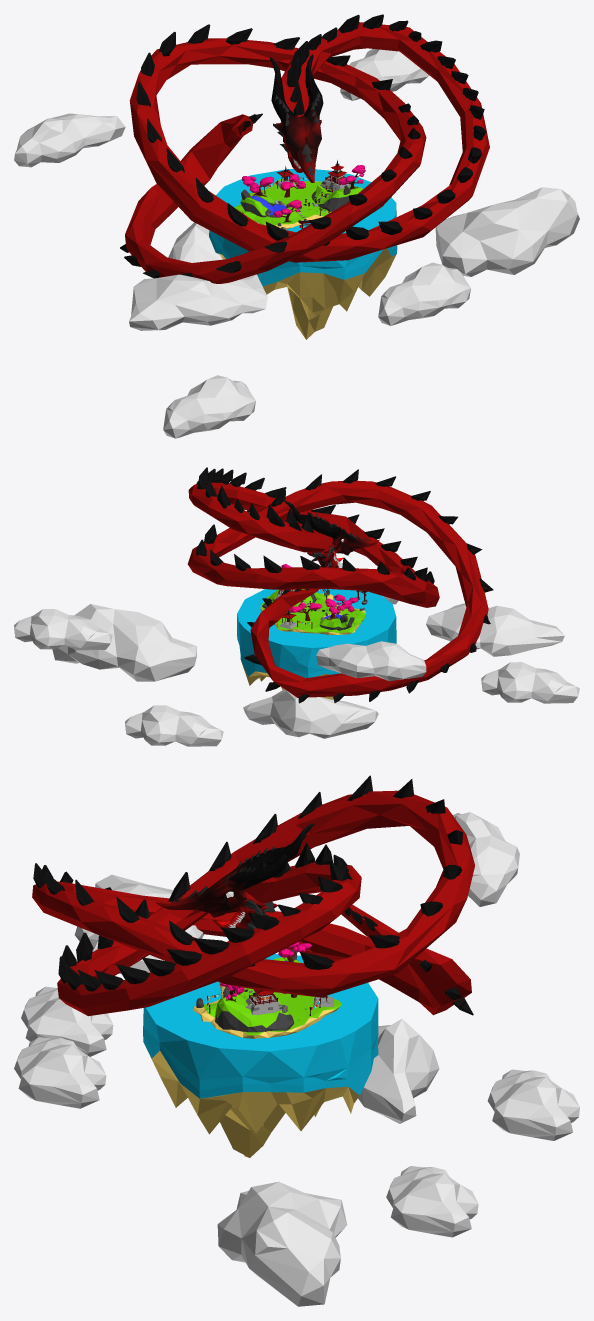
The model's file is island.glb.
3 views of the same model, one above another, from view 1: azimuth 30°, elevation 25°; view 2: azimuth 150°, elevation 25°; view 3: azimuth 270°, elevation 25° (orthographic). The views are drawn at different scales.
Parts seen in each view (by area): view 1: DragonBody, Clouds, DragonScales, Water, Dragon_Head, Base, Tree_Bush, Hill_1; view 2: Clouds, DragonBody, Water, DragonScales, Dragon_Head, Base, Tree_Bush; view 3: DragonBody, Clouds, Water, DragonScales, Dragon_Head, Base, Hill_1.
Part boxes in pixels (x1=…): DragonBody: x1=125, y1=22, x2=489, y2=283; Clouds: x1=14, y1=49, x2=579, y2=438; DragonScales: x1=120, y1=14, x2=486, y2=278; Water: x1=209, y1=169, x2=397, y2=339; Dragon_Head: x1=270, y1=54, x2=323, y2=182; Base: x1=234, y1=179, x2=330, y2=229; Tree_Bush: x1=242, y1=165, x2=365, y2=217; Hill_1: x1=311, y1=185, x2=362, y2=211; Clouds: x1=14, y1=563, x2=579, y2=746; DragonBody: x1=187, y1=480, x2=488, y2=697; Water: x1=237, y1=589, x2=396, y2=699; DragonScales: x1=196, y1=467, x2=493, y2=703; Dragon_Head: x1=284, y1=501, x2=379, y2=567; Base: x1=260, y1=592, x2=365, y2=634; Tree_Bush: x1=281, y1=564, x2=358, y2=614; DragonBody: x1=32, y1=790, x2=475, y2=1016; Clouds: x1=14, y1=812, x2=579, y2=1306; Water: x1=143, y1=954, x2=378, y2=1157; DragonScales: x1=33, y1=775, x2=473, y2=1015; Dragon_Head: x1=155, y1=823, x2=314, y2=929; Base: x1=192, y1=982, x2=341, y2=1038; Hill_1: x1=215, y1=994, x2=293, y2=1032.
Size of the model in its own units: 485 by 246 by 363.
3 materials, 3 textured.
